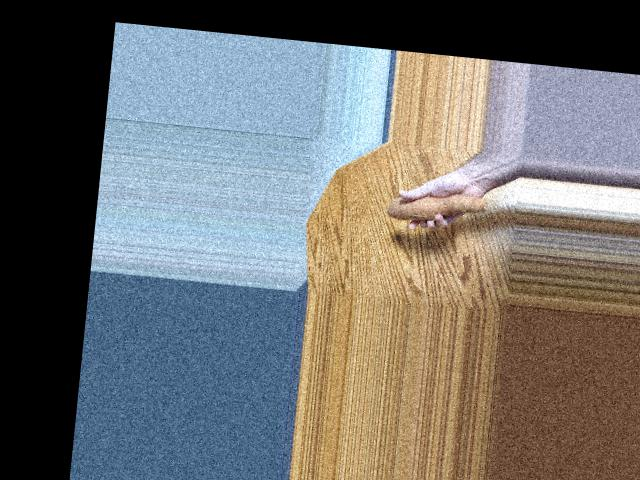sweet_potato: (383, 178, 498, 230)
